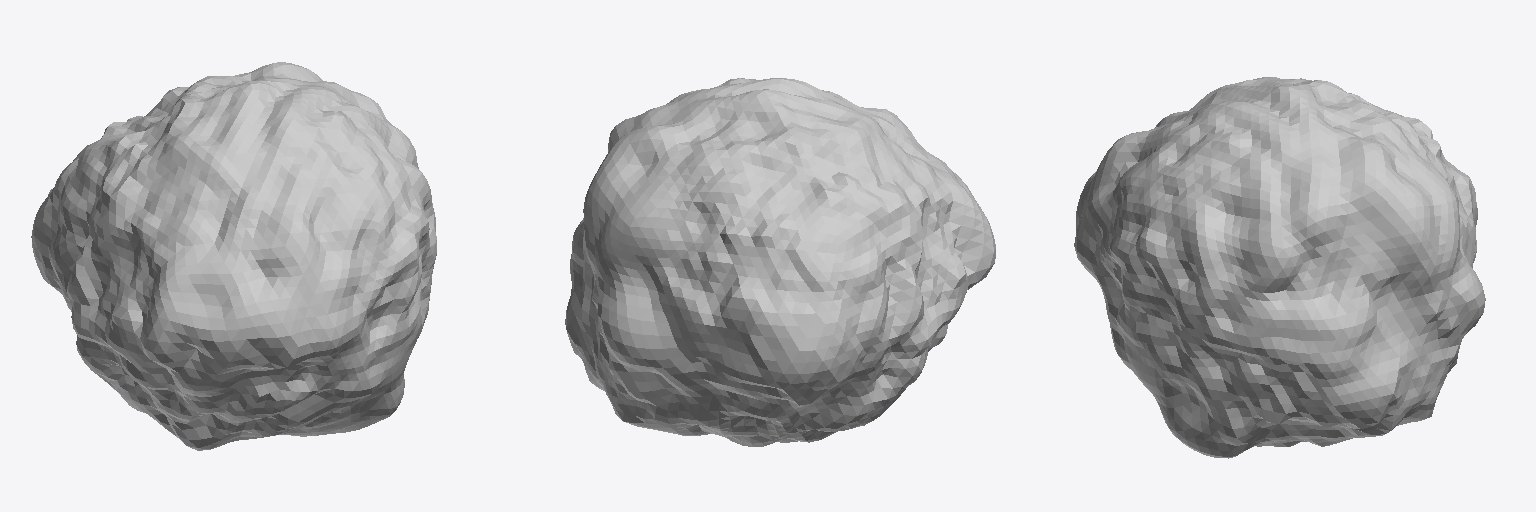
The model's file is eleonora.obj.
3 renders of one model, left to right at view 1: azimuth 30°, elevation 25°; view 2: azimuth 150°, elevation 25°; view 3: azimuth 270°, elevation 25°, orthographic.
Visible parts, largest first — view 1: Eleonora; view 2: Eleonora; view 3: Eleonora.
Boxes of the visible parts, x1,y1,x2,y2 form: Eleonora: [31, 62, 436, 450]; Eleonora: [565, 78, 995, 446]; Eleonora: [1074, 77, 1485, 458].
Bounding box in the file's own units: 4.31 × 4.07 × 4.49.